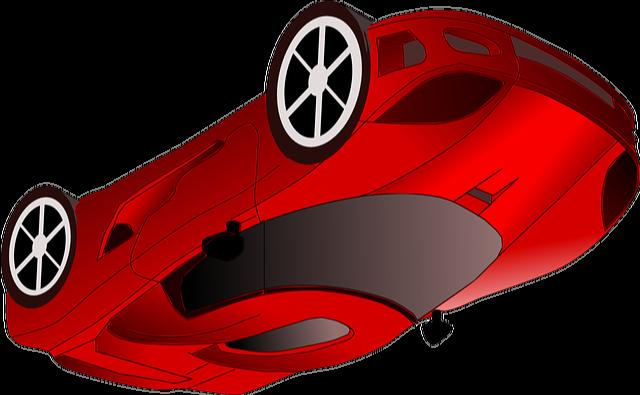Non_Gorille: (0, 0, 635, 393)
